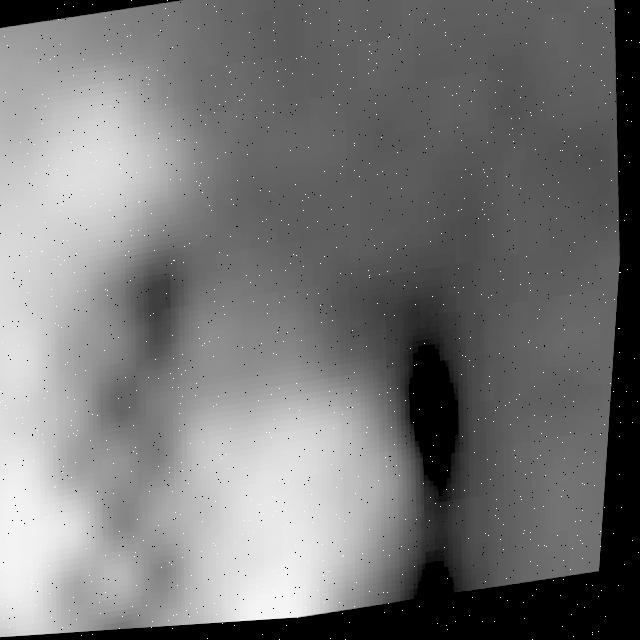person: (1, 1, 228, 640), (102, 296, 425, 634)
